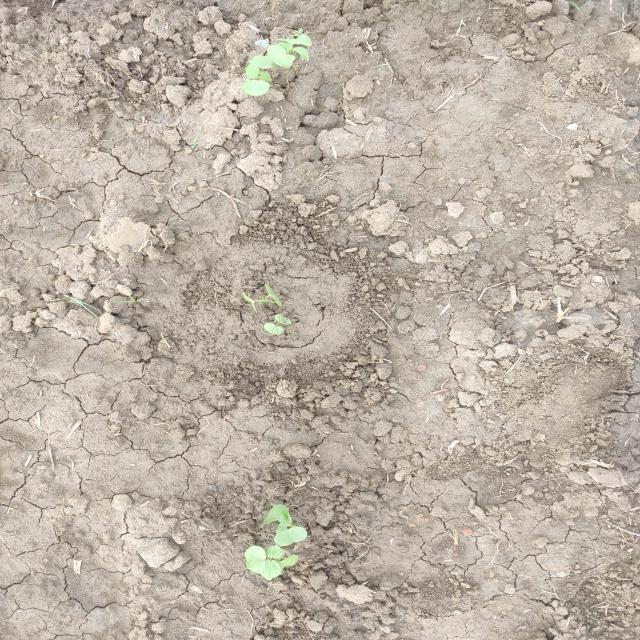seedling: (267, 45, 295, 69), (274, 526, 307, 546), (245, 546, 266, 573), (261, 504, 287, 525), (241, 79, 271, 96), (260, 559, 281, 581), (277, 34, 313, 46), (265, 283, 281, 307), (250, 55, 277, 69), (277, 555, 298, 572), (242, 292, 257, 313), (265, 545, 285, 560), (278, 507, 293, 526), (264, 322, 285, 335), (245, 64, 261, 79), (274, 42, 292, 54), (275, 314, 291, 324), (259, 71, 272, 82)
